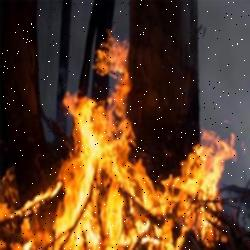fire: (0, 34, 240, 250)
